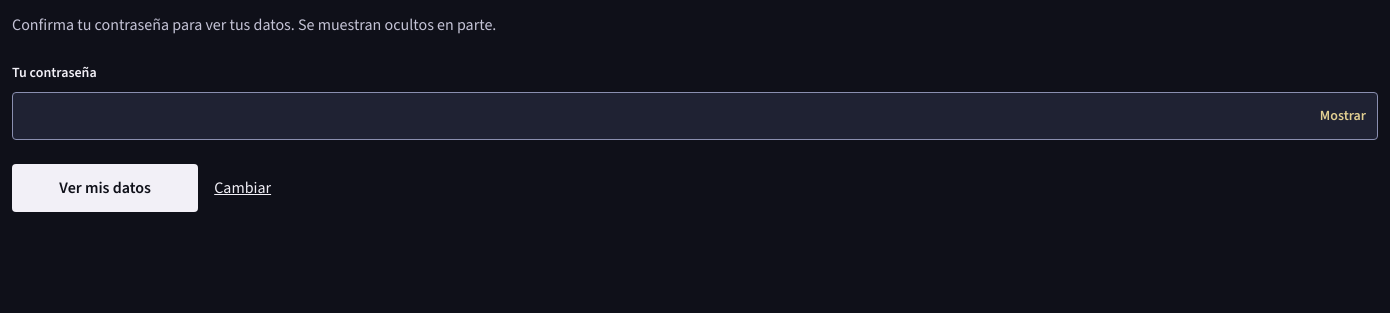
ver lo guardado › sin llave lo dice
Type "x" into the password field labelled "Tu contraseña" at (695, 116), box x1=12 y1=92 x2=1378 y2=140
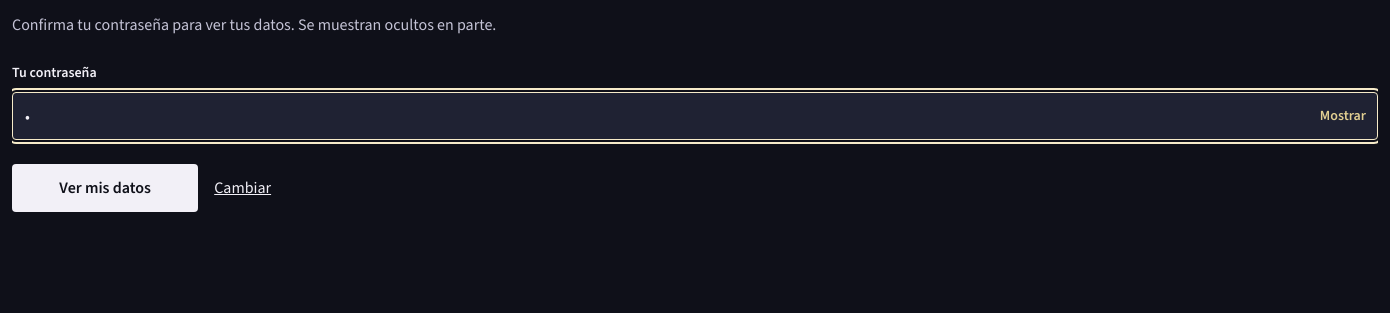
Click the button "Ver mis datos" at (105, 188), box x1=12 y1=164 x2=198 y2=212
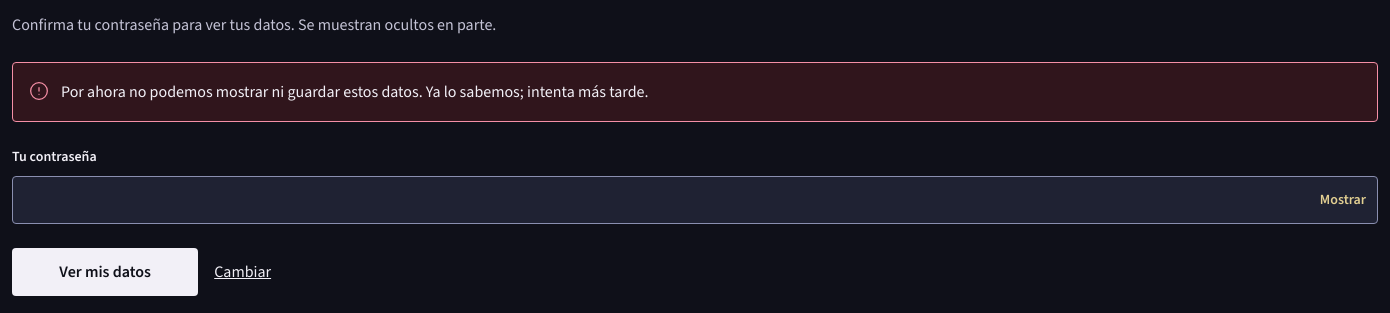
Expected: the text "Por ahora no podemos mostrar ni guardar estos datos. Ya lo sabemos; intenta más tarde." is shown, x1=61 y1=81 x2=648 y2=102
